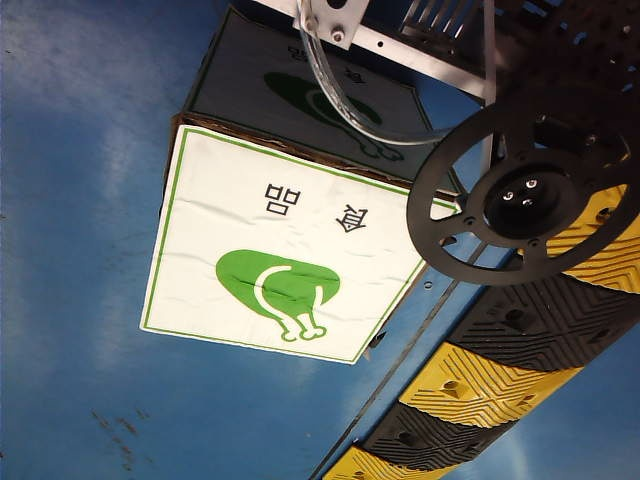Cube_food: (198, 173, 384, 350)
